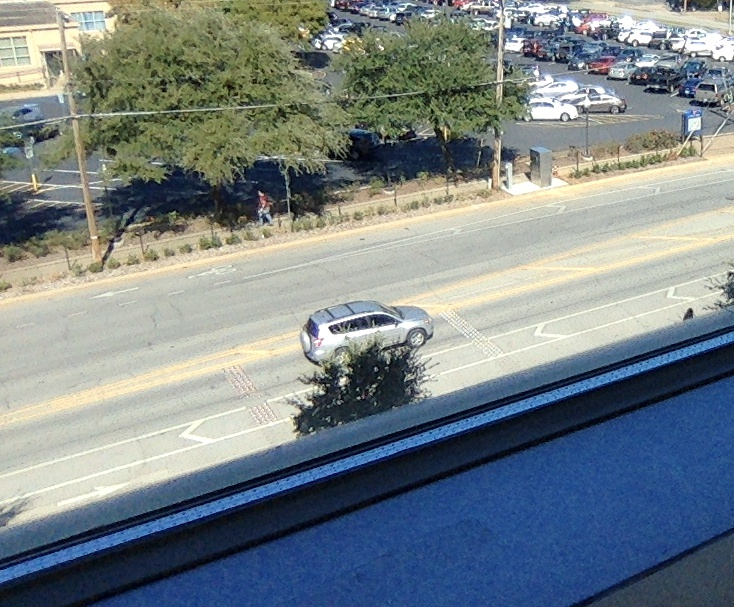car: (300, 300, 434, 366)
